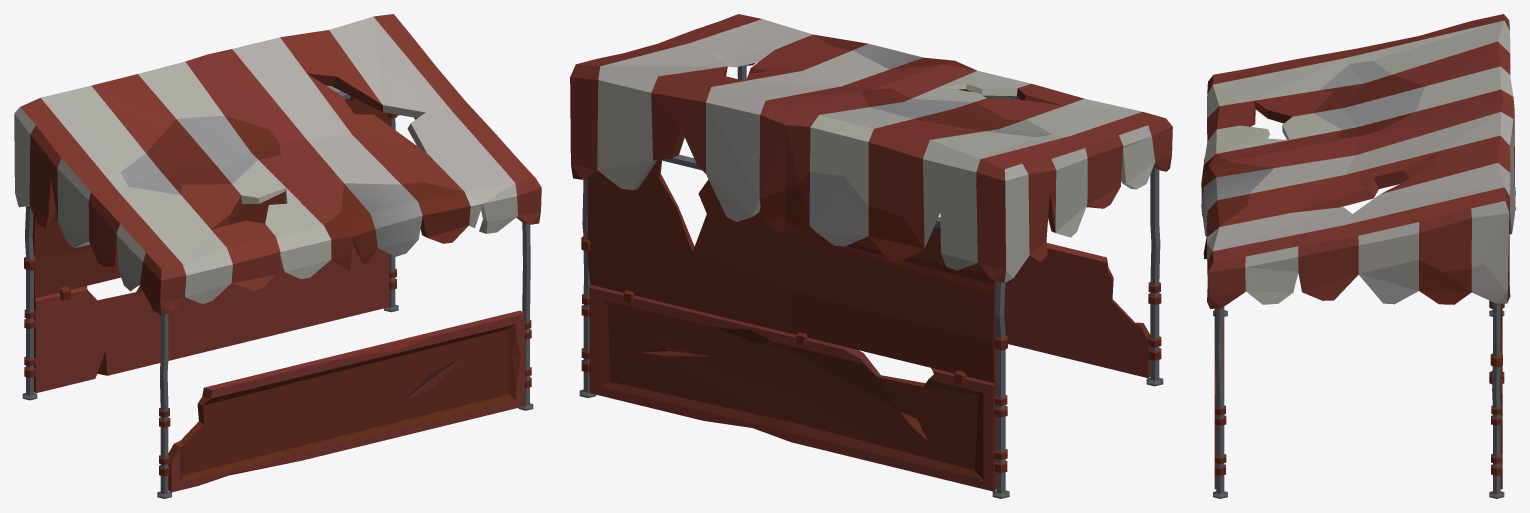
File: SM_Prop_Stall_02_Damaged_01.glb
The picture shows the model from 3 angles, left to right: view 1: azimuth 30°, elevation 25°; view 2: azimuth 150°, elevation 25°; view 3: azimuth 270°, elevation 25°; orthographic projection. The views are drawn at different scales.
Parts seen in each view (by area): view 1: SM_Prop_Stall_02_Damaged_01; view 2: SM_Prop_Stall_02_Damaged_01; view 3: SM_Prop_Stall_02_Damaged_01.
Boxes of the visible parts, <box> form: SM_Prop_Stall_02_Damaged_01: <box>14,14,541,498</box>; SM_Prop_Stall_02_Damaged_01: <box>570,14,1172,498</box>; SM_Prop_Stall_02_Damaged_01: <box>1201,14,1515,498</box>.
Size of the model in its own units: 401 by 293 by 273.
1 material, 1 textured.
